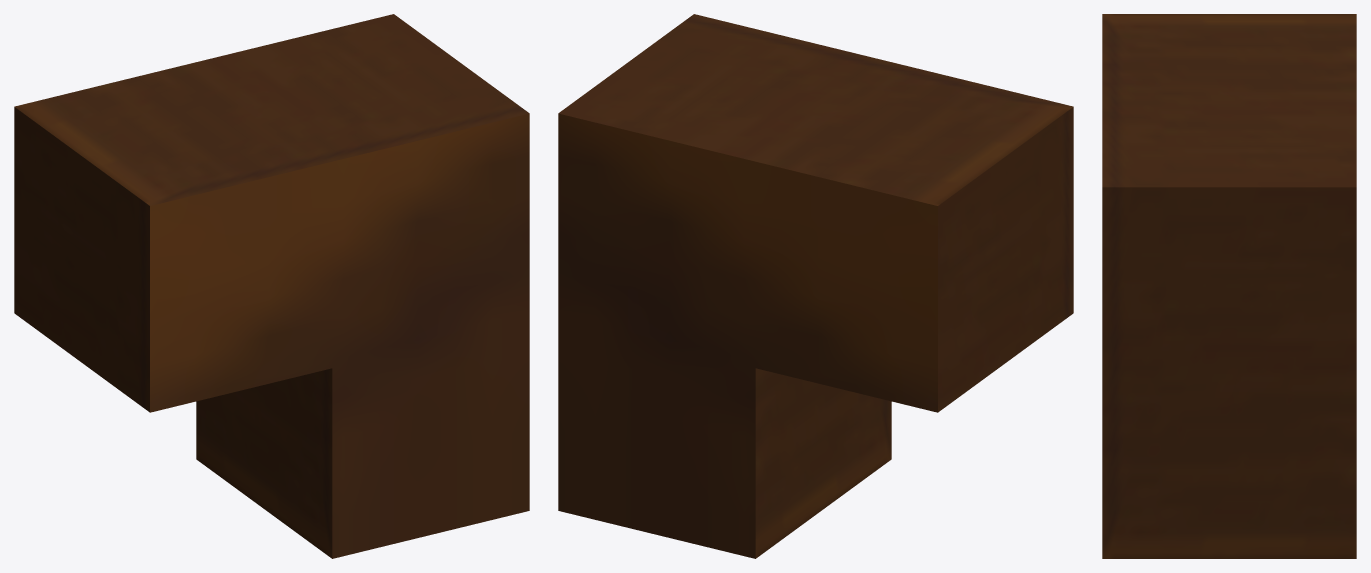
File: pz_counter_dark_oak_wall_corner.obj
3 views of the same model, side by side, from view 1: azimuth 30°, elevation 25°; view 2: azimuth 150°, elevation 25°; view 3: azimuth 270°, elevation 25° (orthographic). The views are drawn at different scales.
Bounding box in the file's own units: 1 × 1 × 0.62.
1 material, 1 textured.
